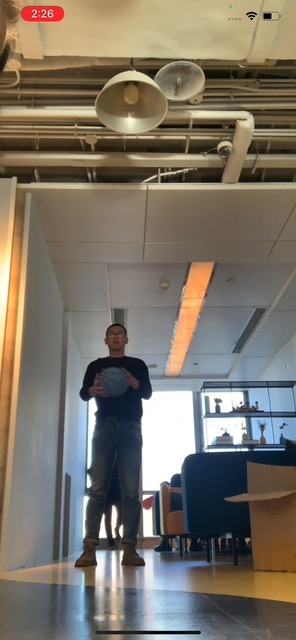ball: (99, 367, 130, 398)
